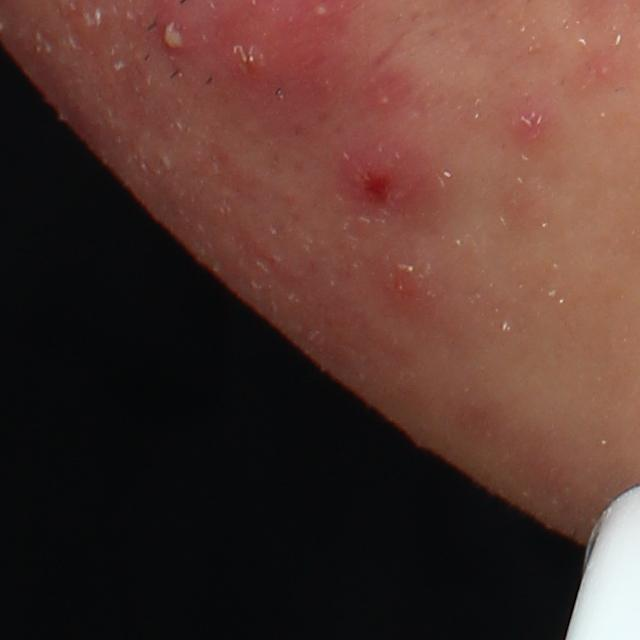papule: (315, 142, 445, 225), (377, 253, 428, 300), (508, 105, 555, 142)
pustule: (155, 14, 198, 61)
